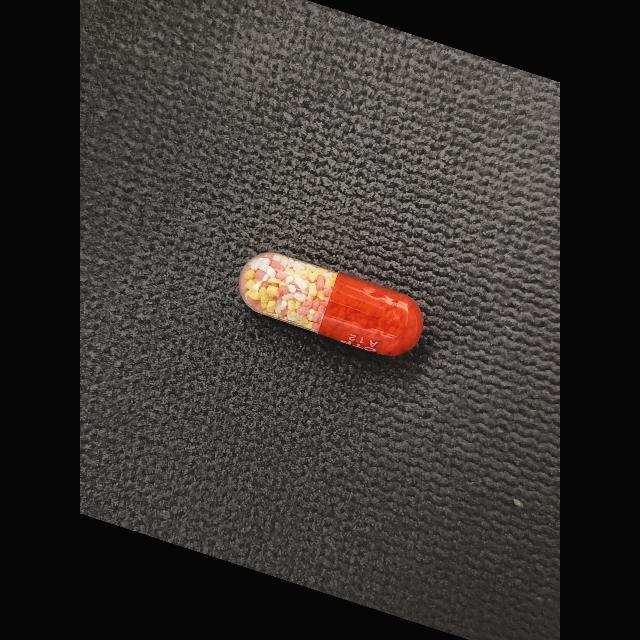Intact Capsule: (239, 252, 424, 356)
